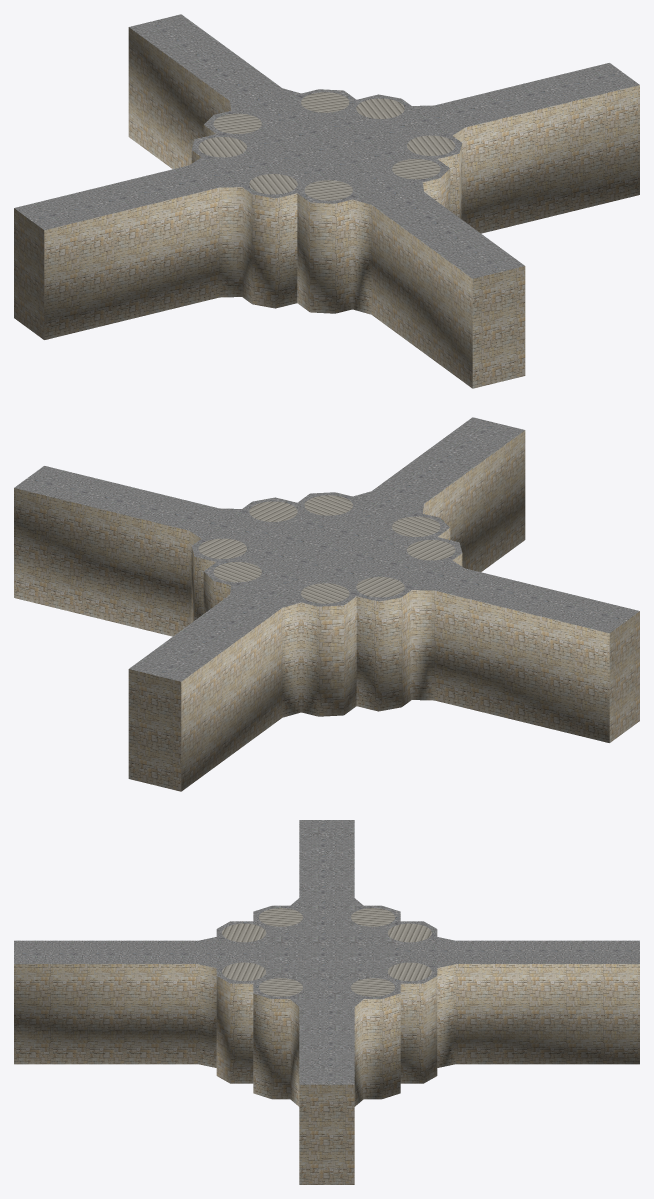
The model's file is world.obj.
3 views of the same model, one above another, from view 1: azimuth 30°, elevation 25°; view 2: azimuth 150°, elevation 25°; view 3: azimuth 270°, elevation 25° (orthographic). The views are drawn at different scales.
Parts seen in each view (by area): view 1: Plane.001_Plane.002, Plane_Plane.001, Pillar.001_Cylinder, Pillar_Cylinder; view 2: Plane.001_Plane.002, Plane_Plane.001, Pillar_Cylinder, Pillar.001_Cylinder; view 3: Plane.001_Plane.002, Plane_Plane.001, Pillar.001_Cylinder, Pillar_Cylinder.
Part boxes in pixels (left/top/right/bottom): Plane.001_Plane.002: left=14, top=14, right=639, bottom=388; Plane_Plane.001: left=217, top=100, right=436, bottom=192; Pillar.001_Cylinder: left=198, top=92, right=455, bottom=200; Pillar_Cylinder: left=213, top=98, right=440, bottom=194; Plane.001_Plane.002: left=14, top=417, right=639, bottom=791; Plane_Plane.001: left=217, top=503, right=436, bottom=595; Pillar_Cylinder: left=198, top=495, right=455, bottom=603; Pillar.001_Cylinder: left=213, top=501, right=440, bottom=597; Plane.001_Plane.002: left=14, top=820, right=639, bottom=1184; Plane_Plane.001: left=253, top=921, right=400, bottom=983; Pillar.001_Cylinder: left=222, top=908, right=431, bottom=996; Pillar_Cylinder: left=222, top=908, right=431, bottom=996.
Size of the model in its own units: 34 by 6 by 34.
8 materials, 8 textured.
